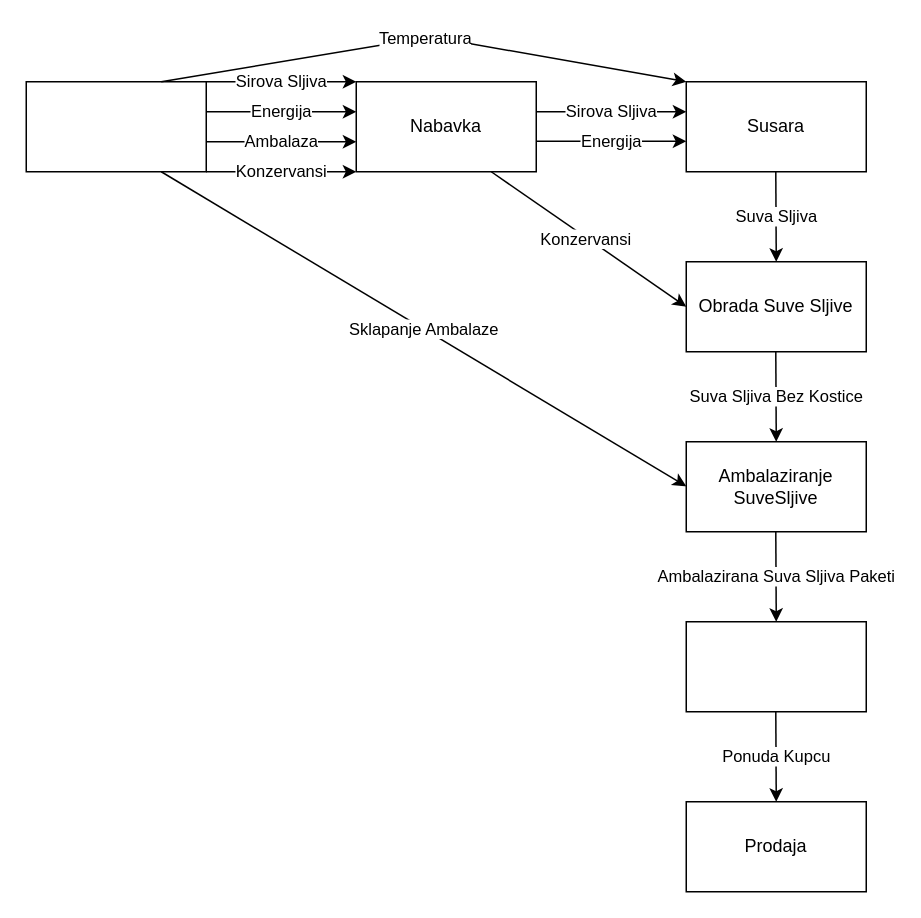
Some shapes in this 921 by 918 pixel diagram are drawn without their labels. Here are the shapes that lost their labels. From the top down, the centre of each, then its label:
At point (115, 126): "Radnici".
At point (775, 666): "Skladistenje".
